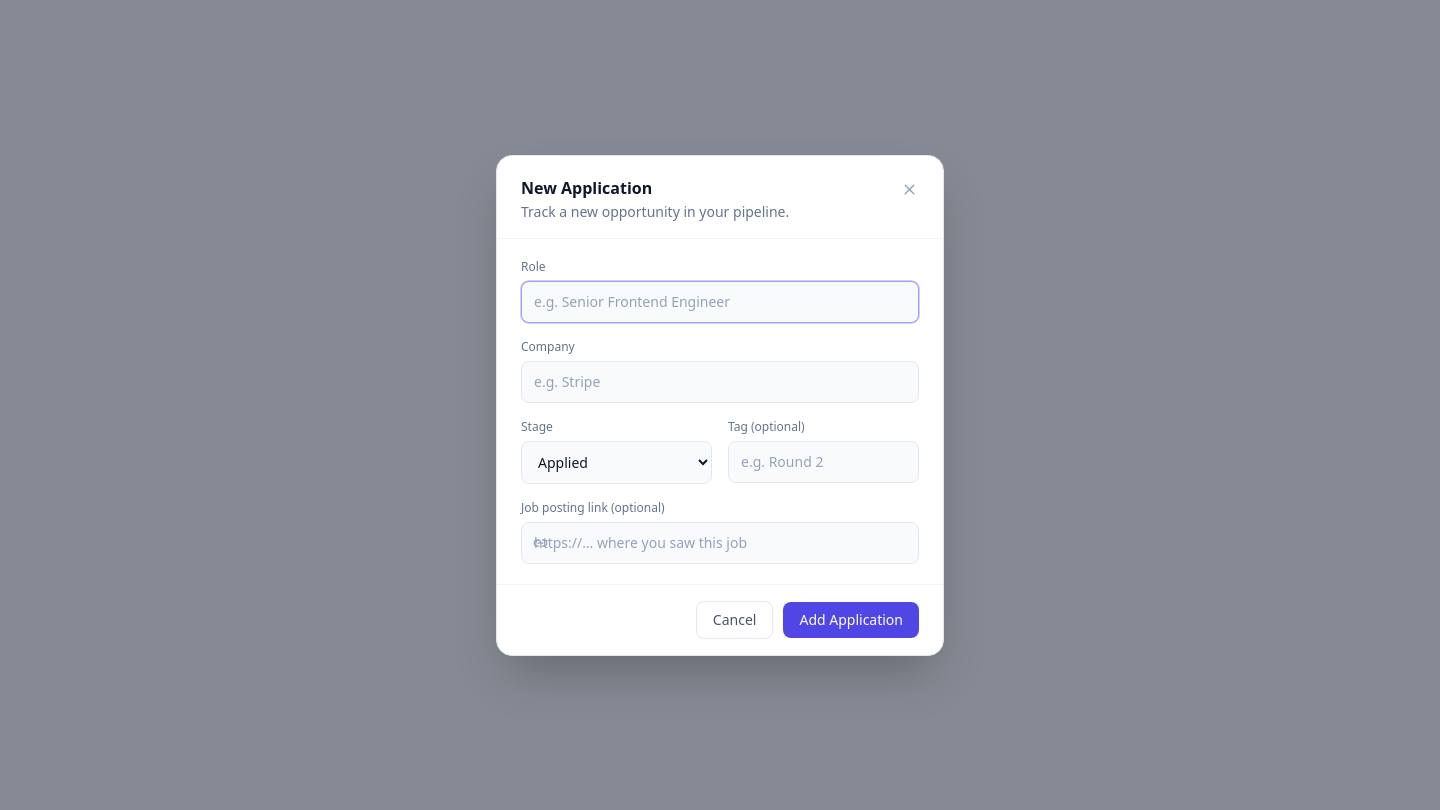
Test: ApplicationFormModal › shows an error when submitting with empty role and company
This screenshot has width=1440, height=810.
Click the button "Add Application": (851, 620) [783,602,919,638]
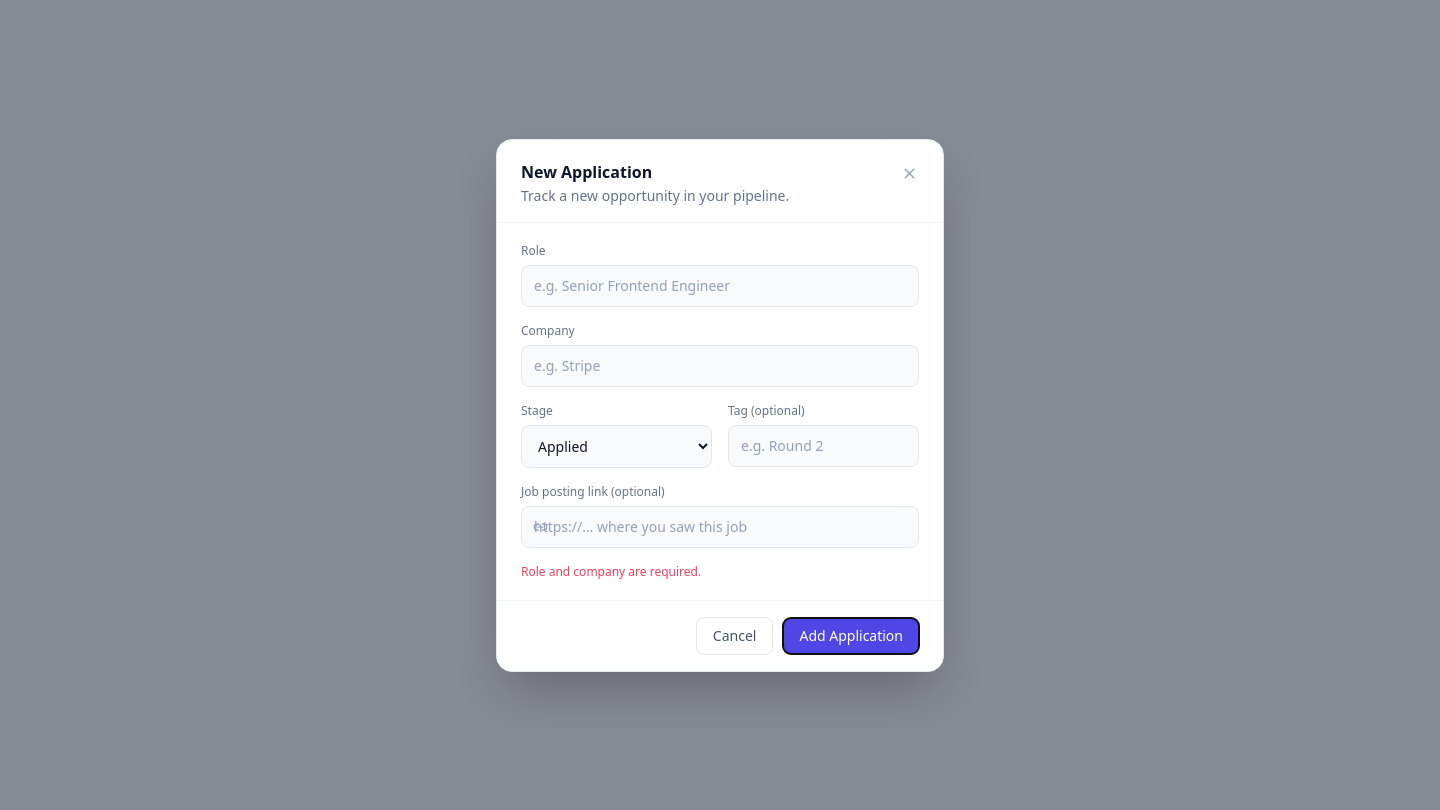
Expected: the text "Role and company are required." is shown, [521,562,701,580]
